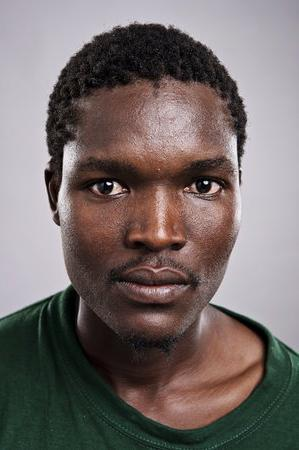Sober: (70, 87, 233, 324)
